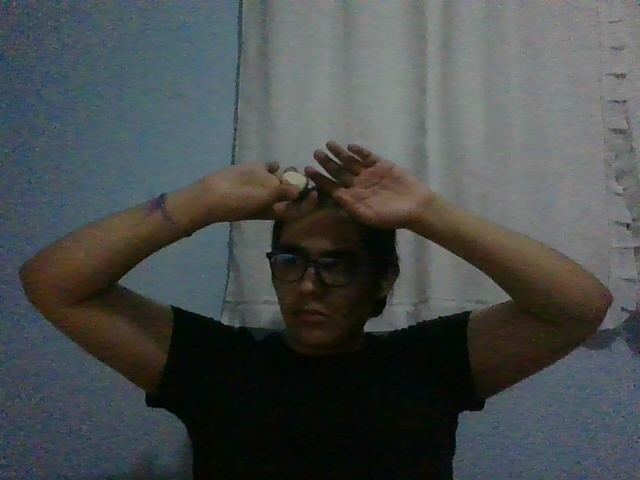goma: (282, 171, 307, 191)
